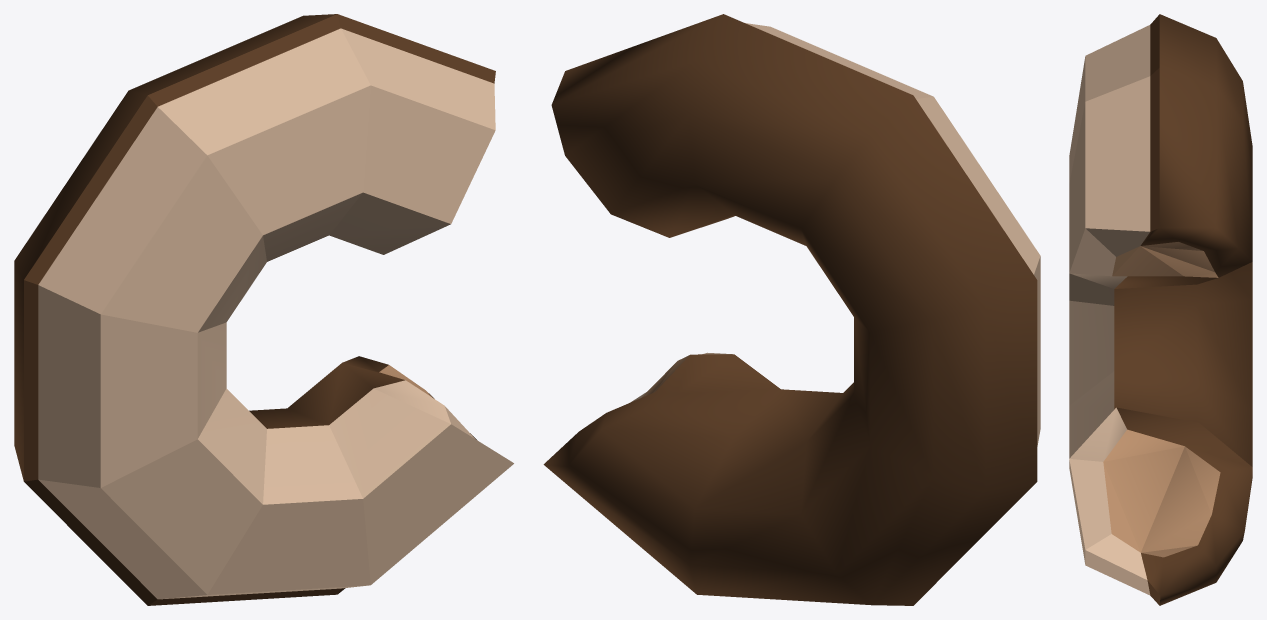
Rendered from Simple_Donut__alt_.glb.
3 renders of one model, left to right at view 1: azimuth 30°, elevation 25°; view 2: azimuth 150°, elevation 25°; view 3: azimuth 270°, elevation 25°, orthographic. The views are drawn at different scales.
Parts seen in each view (by area): view 1: Simple Donut (alt); view 2: Simple Donut (alt); view 3: Simple Donut (alt).
Part boxes in pixels (left/top/right/bottom): Simple Donut (alt): left=14, top=14, right=513, bottom=605; Simple Donut (alt): left=543, top=14, right=1040, bottom=605; Simple Donut (alt): left=1069, top=14, right=1252, bottom=605.
Size of the model in its own units: 0.1322 by 0.1536 by 0.0474.
2 materials, 1 textured.
